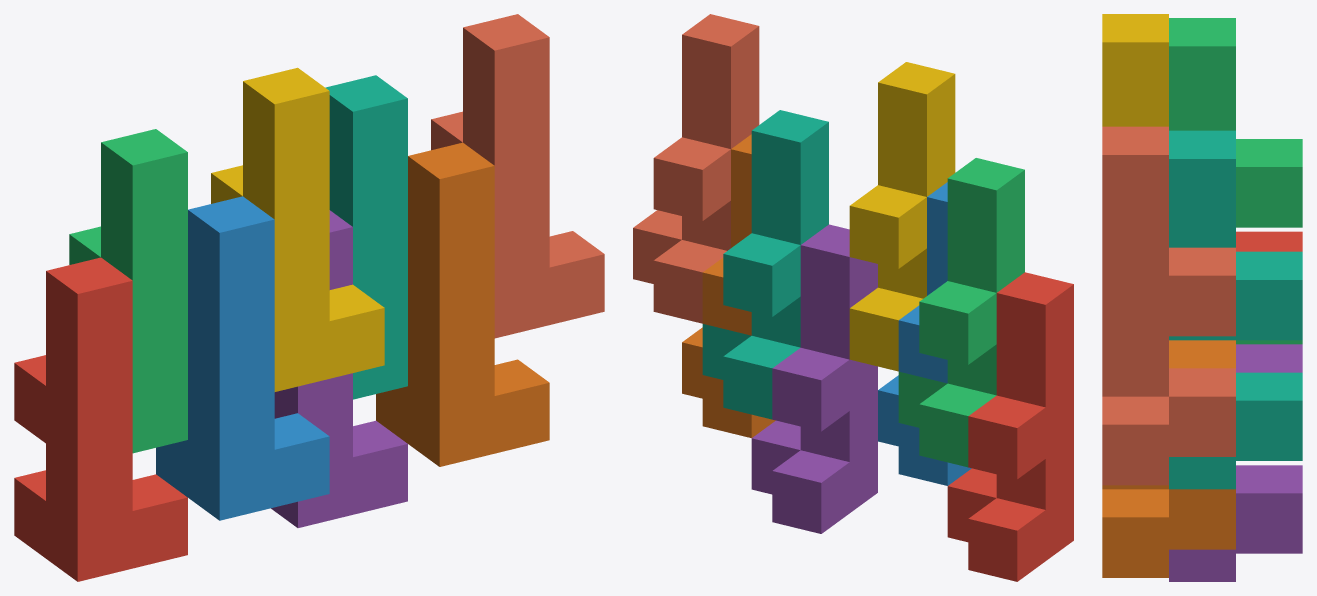
The model's file is tiling.obj.
3 views of the same model, side by side, from view 1: azimuth 30°, elevation 25°; view 2: azimuth 150°, elevation 25°; view 3: azimuth 270°, elevation 25° (orthographic). The views are drawn at different scales.
Visible parts, largest first — view 1: copy_1_domain_1, copy_1_domain_6, copy_1_domain_2, copy_1_domain_4, copy_1_domain_8, copy_1_domain_3, copy_1_domain_7, copy_1_domain_5; view 2: copy_1_domain_1, copy_1_domain_5, copy_1_domain_8, copy_1_domain_3, copy_1_domain_7, copy_1_domain_4, copy_1_domain_2, copy_1_domain_6; view 3: copy_1_domain_8, copy_1_domain_7, copy_1_domain_3, copy_1_domain_6, copy_1_domain_5, copy_1_domain_4, copy_1_domain_1.
Boxes of the visible parts, x1,y1,x2,y2 form: copy_1_domain_1: [14, 257, 187, 581]; copy_1_domain_6: [376, 142, 549, 466]; copy_1_domain_2: [156, 196, 329, 520]; copy_1_domain_4: [211, 67, 384, 391]; copy_1_domain_8: [431, 14, 604, 338]; copy_1_domain_3: [69, 129, 187, 453]; copy_1_domain_7: [325, 75, 407, 399]; copy_1_domain_5: [271, 210, 407, 527]; copy_1_domain_1: [947, 272, 1073, 581]; copy_1_domain_5: [751, 224, 877, 533]; copy_1_domain_8: [633, 14, 759, 323]; copy_1_domain_3: [898, 158, 1024, 467]; copy_1_domain_7: [702, 110, 828, 419]; copy_1_domain_4: [849, 62, 955, 371]; copy_1_domain_2: [878, 182, 971, 485]; copy_1_domain_6: [682, 134, 775, 438]; copy_1_domain_8: [1102, 126, 1235, 485]; copy_1_domain_7: [1169, 130, 1302, 489]; copy_1_domain_3: [1169, 18, 1302, 344]; copy_1_domain_6: [1102, 340, 1235, 577]; copy_1_domain_5: [1169, 344, 1302, 581]; copy_1_domain_4: [1102, 14, 1168, 126]; copy_1_domain_1: [1236, 231, 1302, 251].
Size of the model in its own units: 9 by 8 by 3.
